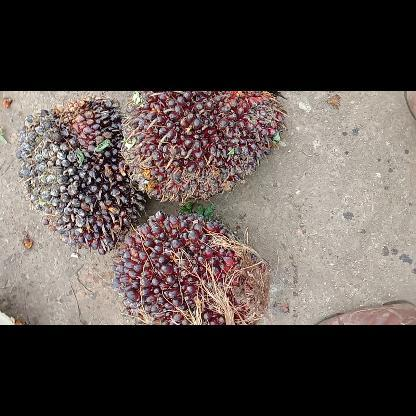Kurang masak: (113, 208, 267, 324), (123, 94, 287, 202)
TBS mentah: (16, 95, 148, 255)
